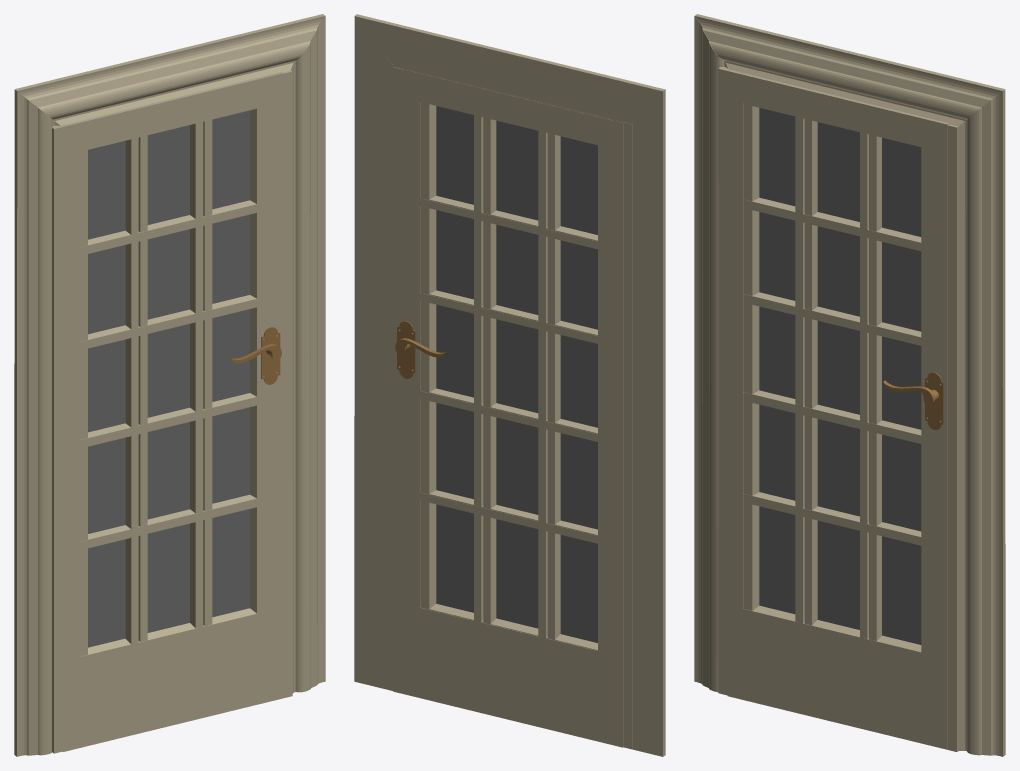
The model's file is door.dae.
3 renders of one model, left to right at view 1: azimuth 30°, elevation 25°; view 2: azimuth 150°, elevation 25°; view 3: azimuth 330°, elevation 25°, orthographic.
Visible parts, largest first — view 1: Door_001, Door, DoorFrame; view 2: Door_001, Door, DoorFrame; view 3: Door, Door_001, DoorFrame.
Part boxes in pixels (left/top/right/bottom): Door_001: left=52, top=72, right=283, bottom=753; Door: left=63, top=70, right=292, bottom=751; DoorFrame: left=14, top=14, right=325, bottom=756; Door_001: left=402, top=68, right=632, bottom=748; Door: left=393, top=67, right=623, bottom=747; DoorFrame: left=354, top=14, right=665, bottom=756; Door: left=728, top=103, right=962, bottom=751; Door_001: left=718, top=67, right=949, bottom=749; DoorFrame: left=694, top=14, right=1005, bottom=756.
Bounding box in the file's own units: 4.03 × 0.5091 × 8.32.
